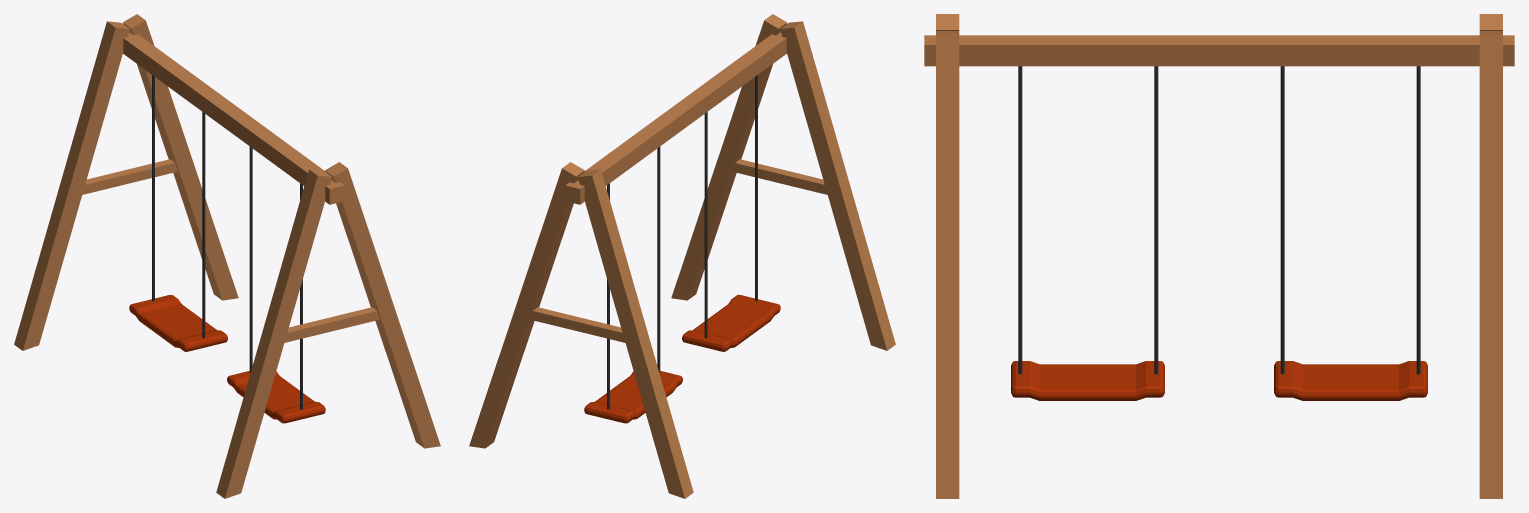
File: swing.fbx
3 views of the same model, side by side, from view 1: azimuth 30°, elevation 25°; view 2: azimuth 150°, elevation 25°; view 3: azimuth 270°, elevation 25° (orthographic). The views are drawn at different scales.
Parts seen in each view (by area): view 1: Swing; view 2: Swing; view 3: Swing.
Part boxes in pixels (bbox=[...]): Swing: bbox=[14, 14, 440, 498]; Swing: bbox=[469, 14, 895, 498]; Swing: bbox=[924, 14, 1514, 498].
Size of the model in its own units: 0.5684 by 0.7557 by 1.
